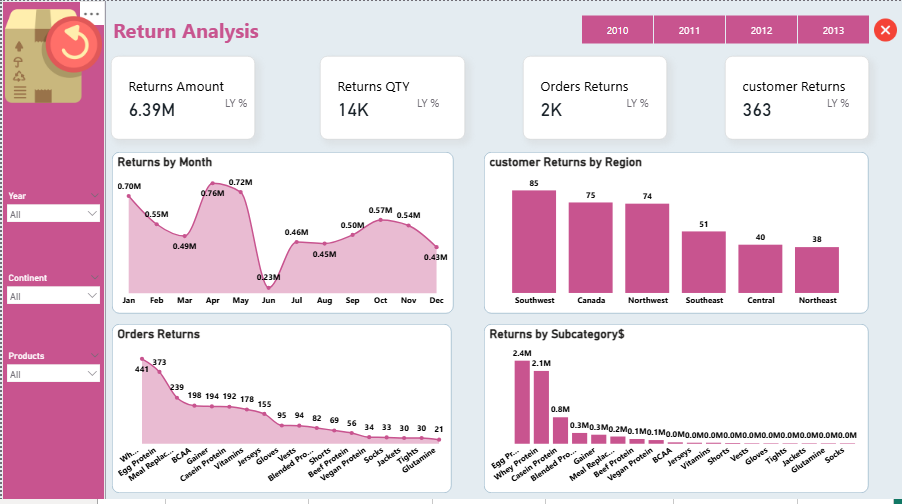

The dashboard page shown, as its layout file describes it:
{"tool":"powerbi","page":{"name":"Return Analysis","canvas":[1800,1000],"ordinal":2},"visuals":[{"type":"cardVisual","fields":{"Data":["Returns Measuerments.Returns Amount"]},"box":[218.8,110.4,287.5,166.7],"z":0},{"type":"cardVisual","fields":{"Data":["Returns Measuerments.Returns QTY"]},"box":[635.4,110.4,289.6,166.7],"z":1000},{"type":"cardVisual","fields":{"Data":["Returns Measuerments.Orders Returns"]},"box":[1041.7,110.4,287.5,166.7],"z":2000},{"type":"cardVisual","fields":{"Data":["Returns Measuerments.#customer Returns"]},"box":[1445.8,110.4,287.5,166.7],"z":3000},{"type":"shape","box":[0,0,206.8,1100],"z":4000},{"type":"lineChart","title":"Returns  by Month ","fields":{"Category":["Calendar2.Month Name"],"Y":["Returns Measuerments.Returns Amount"]},"box":[220,302.5,682.5,322.5],"z":5000},{"type":"lineChart","title":"Orders  Returns ","fields":{"Category":["Products.SubcategoryName"],"Y":["Returns Measuerments.Orders Returns"]},"box":[220.8,645.8,679.2,337.5],"z":6000},{"type":"clusteredColumnChart","fields":{"Y":["Returns Measuerments.customer Returns"],"Category":["Customers.Region"]},"box":[964.6,302.1,768.8,322.9],"z":7000},{"type":"clusteredColumnChart","title":"Returns  by Subcategory$","fields":{"Y":["Returns Measuerments.Returns Amount"],"Category":["Products.SubcategoryName"]},"box":[964.6,645.8,768.8,337.5],"z":8000},{"type":"cardVisual","fields":{"Data":["Returns Measuerments.%Returns Amount"]},"box":[416,134,104,144],"z":9000},{"type":"cardVisual","fields":{"Data":["Returns Measuerments.%Return QTY"]},"box":[780,134,144,144],"z":10000},{"type":"cardVisual","fields":{"Data":["Returns Measuerments.% Returns Orders"]},"box":[1212,134,118,144],"z":11000},{"type":"cardVisual","fields":{"Data":["Returns Measuerments.%Return customers"]},"box":[1610,134,124,144],"z":12000},{"type":"slicer","fields":{"Values":["Calendar2.Date.Variation.Date Hierarchy.Year"]},"box":[0,374,206,88],"z":13000},{"type":"slicer","fields":{"Values":["Customers.Continent"]},"box":[0,538,206,88],"z":14000},{"type":"slicer","fields":{"Values":["Products.ProductName"]},"box":[0,694,206,88],"z":15000},{"type":"actionButton","box":[218.8,20.8,508.3,75],"z":16000},{"type":"image","box":[0,8,206,204],"z":17000},{"type":"slicer","fields":{"Values":["Calendar2.Date.Variation.Date Hierarchy.Year"]},"box":[1134,22,624,70],"z":18000},{"type":"image","box":[1734,30,66,56],"z":19000}]}

Visuals, with their boxes on the page's 1800x1000 design canvas (x1, y1, x2, y2). These are canvas units, not pixel positions in the 902x504 screenshot, which may show the page scaled, cropped or inside an application window:
cardVisual - Returns Measuerments.Returns Amount: {"x1": 219, "y1": 110, "x2": 506, "y2": 277}
cardVisual - Returns Measuerments.Returns QTY: {"x1": 635, "y1": 110, "x2": 925, "y2": 277}
cardVisual - Returns Measuerments.Orders Returns: {"x1": 1042, "y1": 110, "x2": 1329, "y2": 277}
cardVisual - Returns Measuerments.#customer Returns: {"x1": 1446, "y1": 110, "x2": 1733, "y2": 277}
shape: {"x1": 0, "y1": 0, "x2": 207, "y2": 1100}
"Returns  by Month " lineChart: {"x1": 220, "y1": 302, "x2": 902, "y2": 625}
"Orders  Returns " lineChart: {"x1": 221, "y1": 646, "x2": 900, "y2": 983}
clusteredColumnChart - Returns Measuerments.customer Returns x Customers.Region: {"x1": 965, "y1": 302, "x2": 1733, "y2": 625}
"Returns  by Subcategory$" clusteredColumnChart: {"x1": 965, "y1": 646, "x2": 1733, "y2": 983}
cardVisual - Returns Measuerments.%Returns Amount: {"x1": 416, "y1": 134, "x2": 520, "y2": 278}
cardVisual - Returns Measuerments.%Return QTY: {"x1": 780, "y1": 134, "x2": 924, "y2": 278}
cardVisual - Returns Measuerments.% Returns Orders: {"x1": 1212, "y1": 134, "x2": 1330, "y2": 278}
cardVisual - Returns Measuerments.%Return customers: {"x1": 1610, "y1": 134, "x2": 1734, "y2": 278}
slicer - Calendar2.Date.Variation.Date Hierarchy.Year: {"x1": 0, "y1": 374, "x2": 206, "y2": 462}
slicer - Customers.Continent: {"x1": 0, "y1": 538, "x2": 206, "y2": 626}
slicer - Products.ProductName: {"x1": 0, "y1": 694, "x2": 206, "y2": 782}
actionButton: {"x1": 219, "y1": 21, "x2": 727, "y2": 96}
image: {"x1": 0, "y1": 8, "x2": 206, "y2": 212}
slicer - Calendar2.Date.Variation.Date Hierarchy.Year: {"x1": 1134, "y1": 22, "x2": 1758, "y2": 92}
image: {"x1": 1734, "y1": 30, "x2": 1800, "y2": 86}
